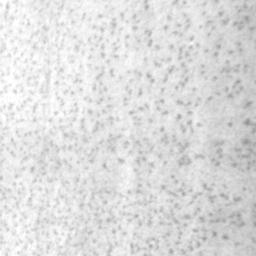Pitted surface: (0, 0, 256, 256), (211, 117, 256, 170), (200, 4, 254, 36), (244, 101, 252, 108)
